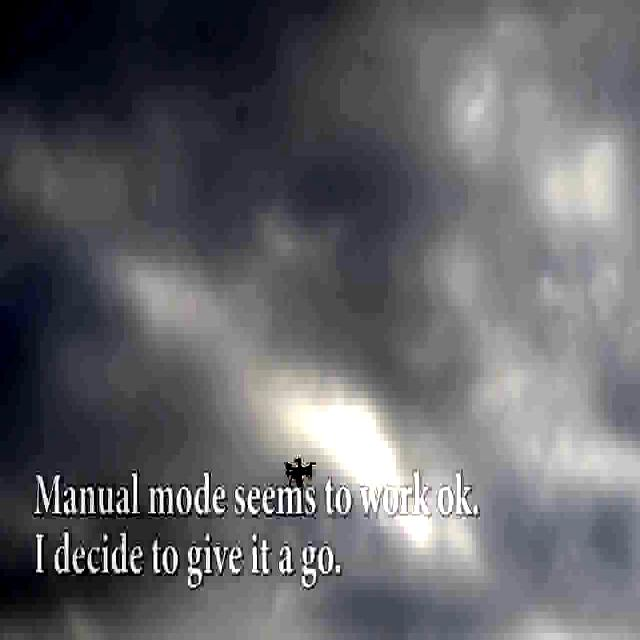drone: (283, 450, 316, 490)
